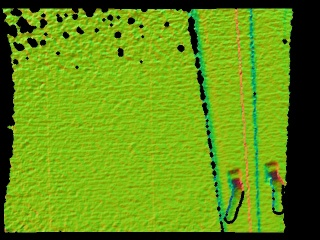station: (224, 162, 286, 226)
